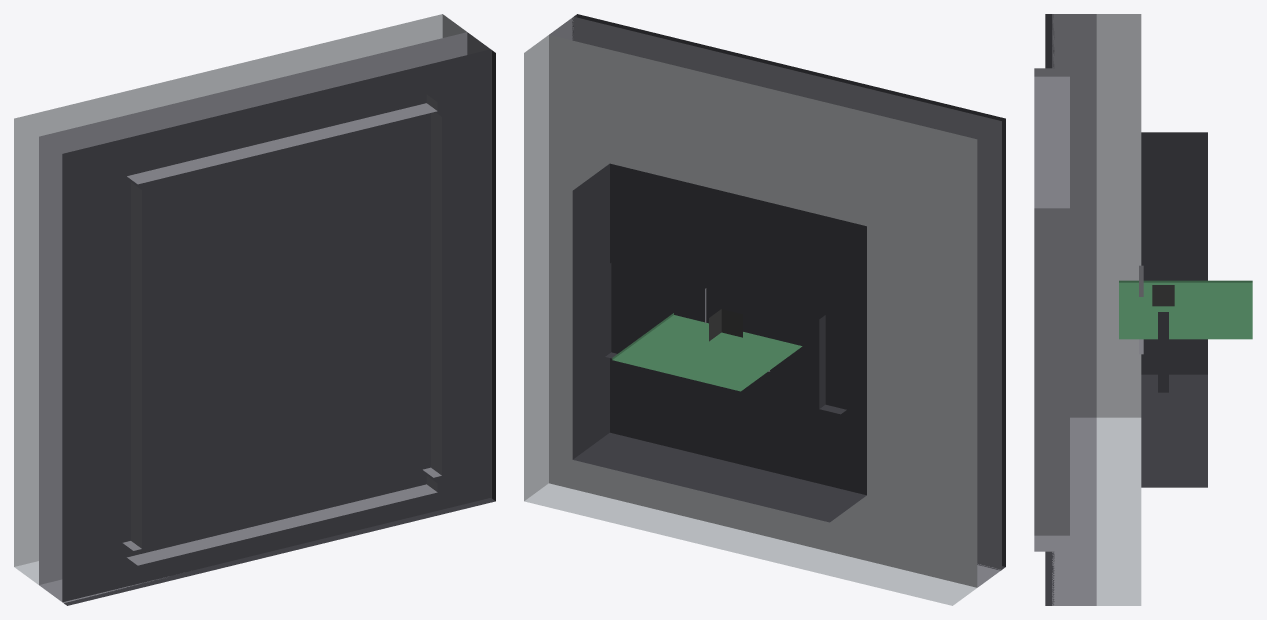
Rendered from speaker.gltf.
3 views of the same model, side by side, from view 1: azimuth 30°, elevation 25°; view 2: azimuth 150°, elevation 25°; view 3: azimuth 270°, elevation 25° (orthographic). The views are drawn at different scales.
Visible parts, largest first — view 1: speaker; view 2: speaker; view 3: speaker.
Boxes of the visible parts, bbox=[...] form: speaker: bbox=[14, 14, 495, 605]; speaker: bbox=[524, 14, 1005, 605]; speaker: bbox=[1034, 14, 1252, 605].
Bounding box in the file's own units: 0.2 × 0.2 × 0.098.
